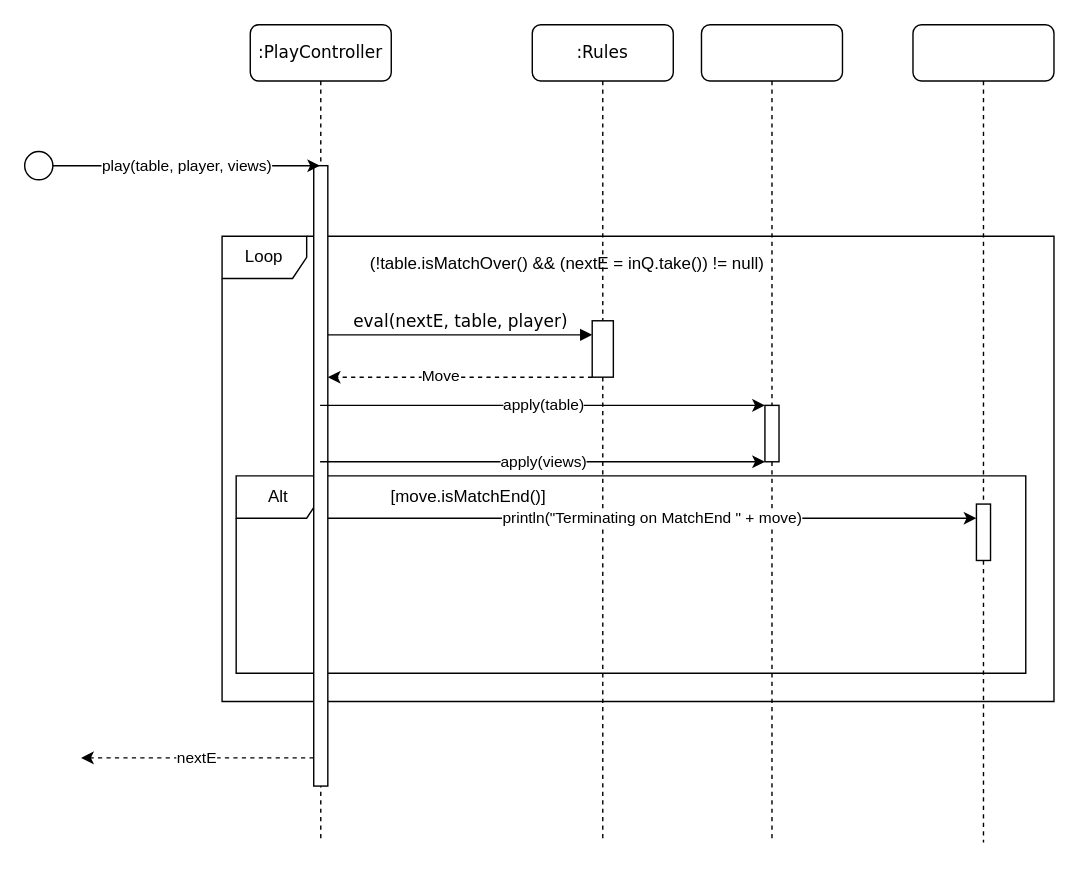
Image size: 1079x869. Some labels were removed from this diagram. Each missing label, with the centre of its shape:
":Move" goes at [771,432].
":System.err" goes at [983,52].
